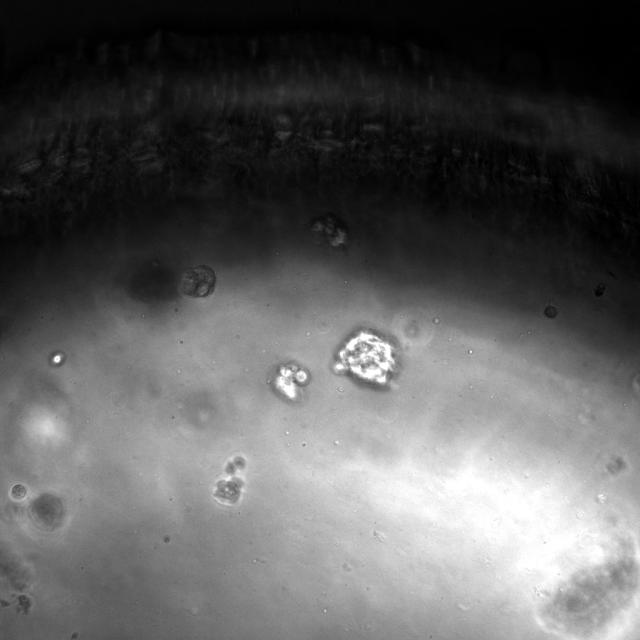organoid: (334, 329, 398, 385), (213, 455, 247, 505), (272, 362, 309, 401), (29, 493, 64, 530), (179, 265, 216, 297), (310, 215, 347, 247), (11, 483, 26, 500), (544, 304, 558, 318), (594, 282, 605, 296)
